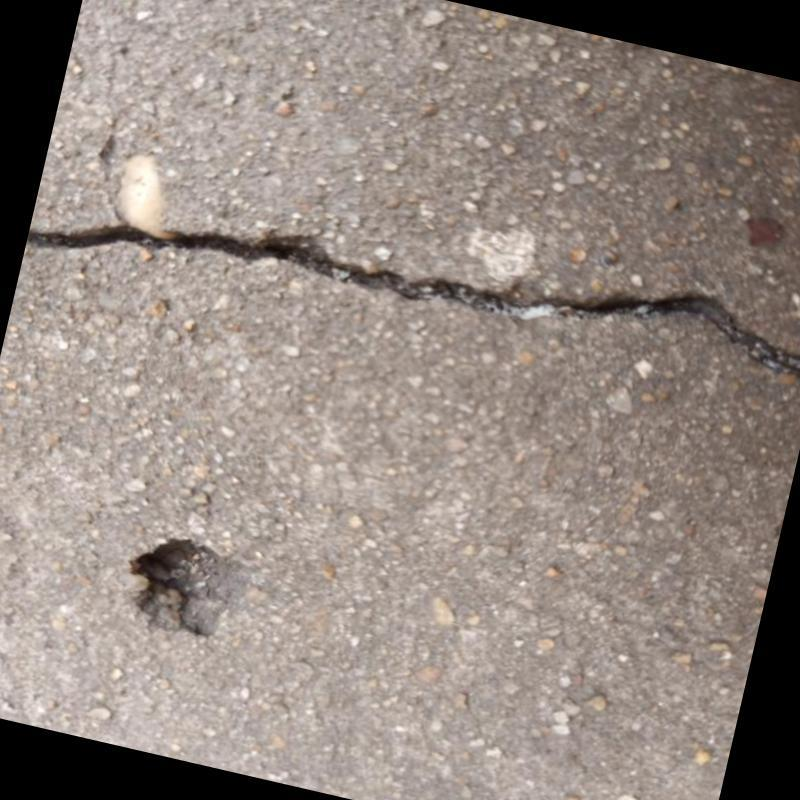crack: (26, 224, 800, 377)
